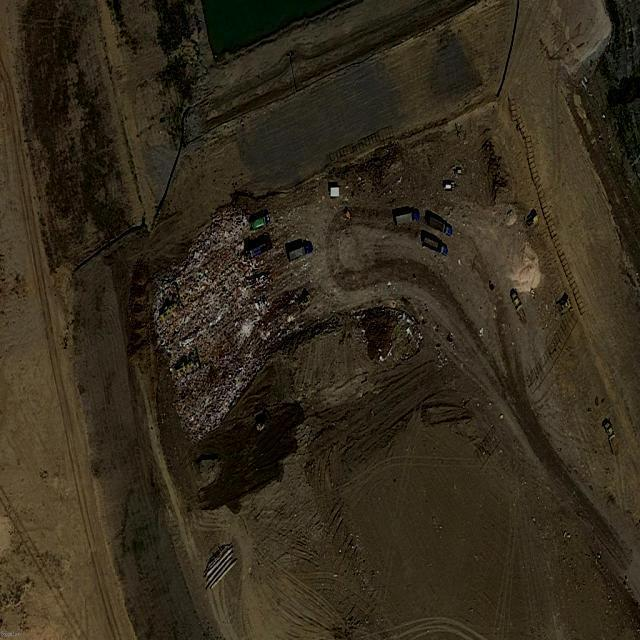dump_site: (145, 189, 322, 462)
